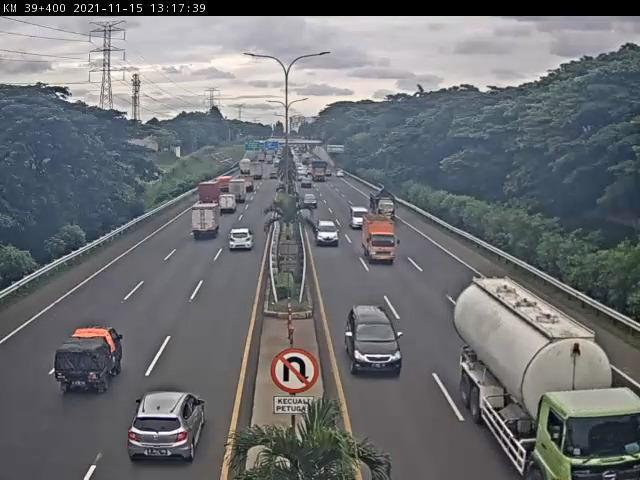car: (126, 392, 206, 463), (56, 322, 127, 393), (349, 306, 406, 377), (229, 229, 258, 254), (316, 220, 343, 246), (351, 207, 372, 232)
truck: (456, 276, 640, 480), (364, 217, 399, 265), (368, 186, 399, 225), (194, 203, 222, 240), (199, 180, 224, 206), (227, 178, 247, 204), (220, 194, 238, 214), (302, 192, 320, 210)
